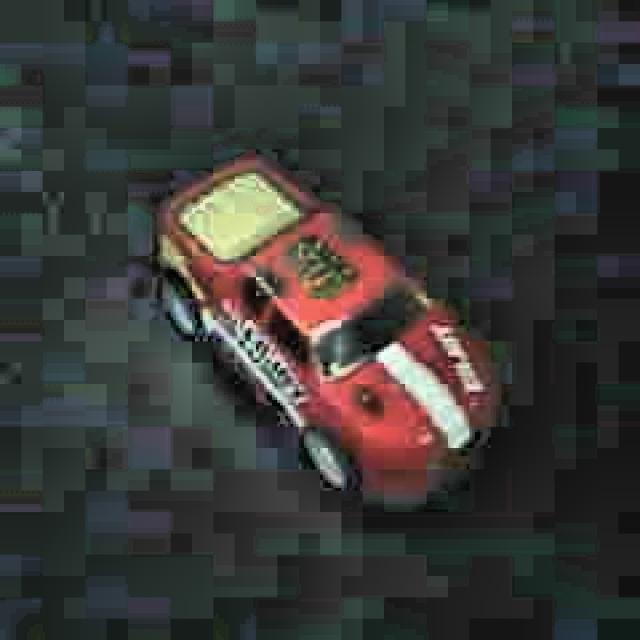car: (153, 154, 497, 498)
